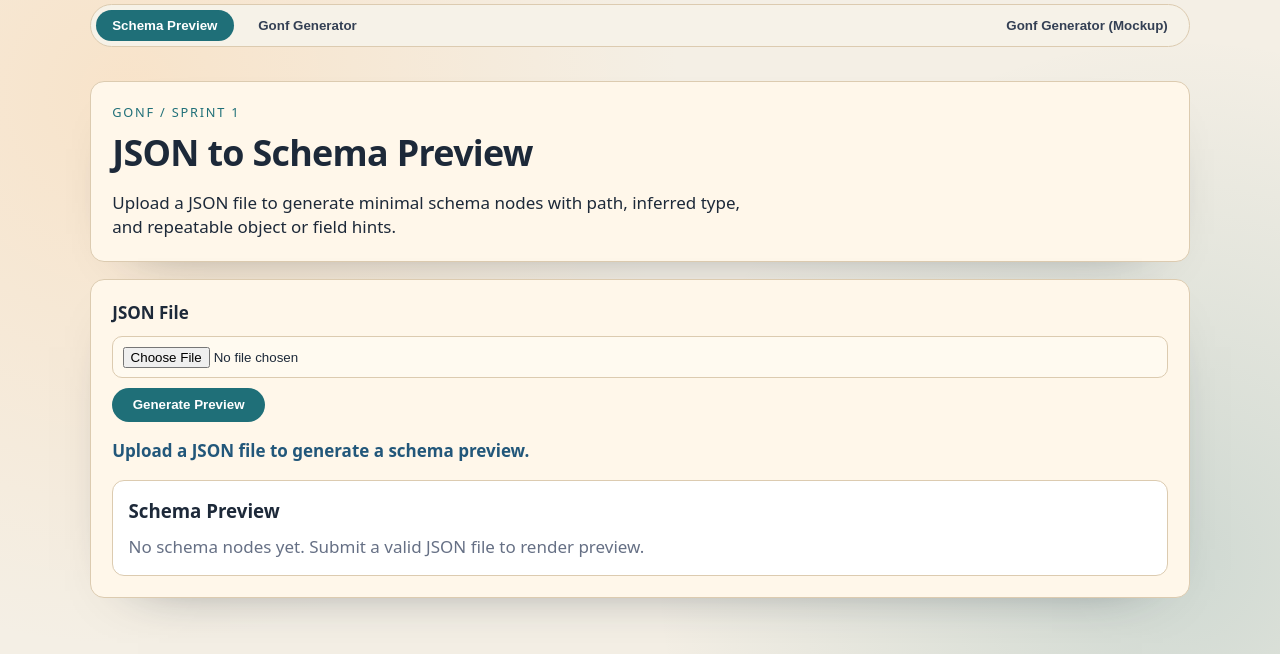
App › shows character fields and actions when character tab is selected
Click the button "Gonf Generator": click(308, 26) [242,10,373,41]
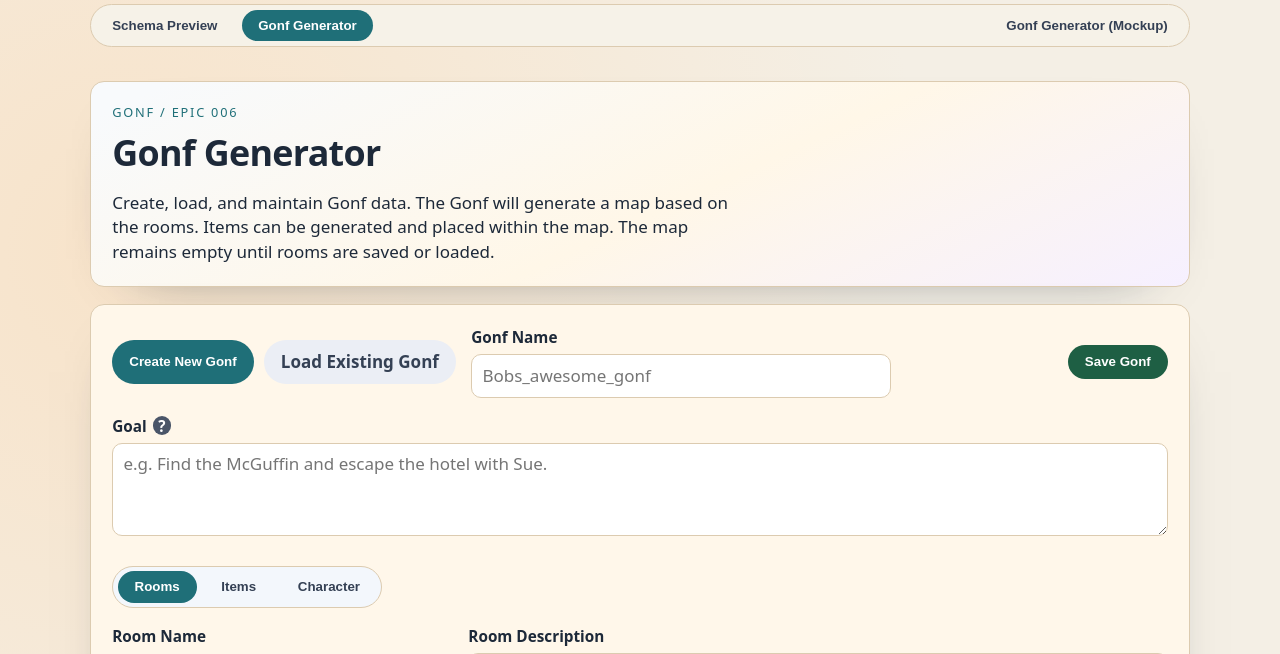
Click the tab "Character": click(329, 587) [281,571,377,603]
(page scrolled)
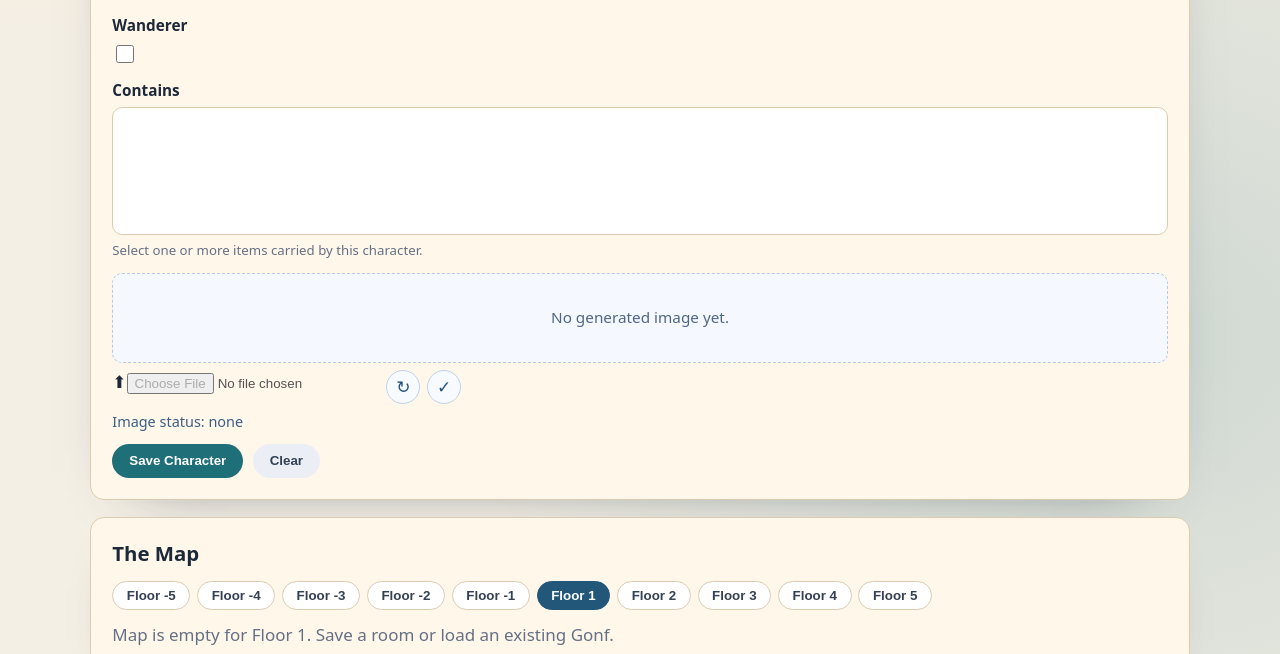
Expected: the checkbox labelled "Wanderer" is shown, [116,45,134,63]
Expected: the dropdown is shown, [112,107,1168,235]
Expected: the button "Save Character" is shown, [112,444,243,478]
